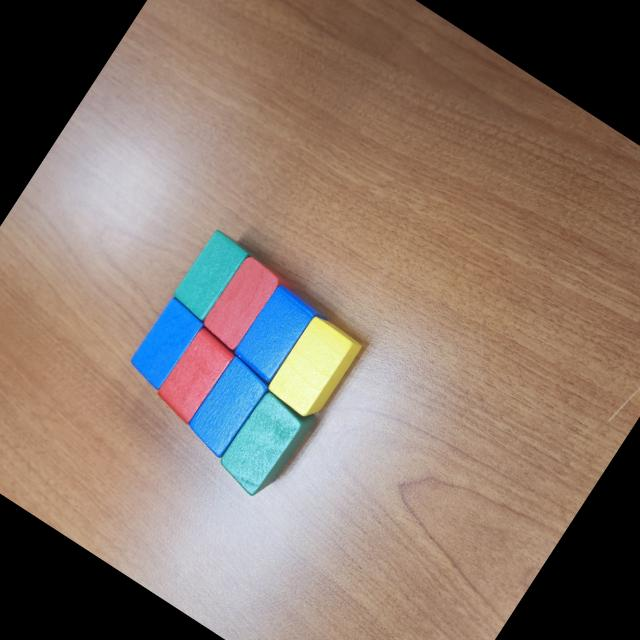blue: (227, 283, 330, 394), (180, 352, 274, 460), (123, 294, 207, 392)
green: (210, 382, 320, 504), (167, 227, 250, 325)
red: (197, 252, 297, 362), (148, 324, 238, 426)
yellow: (262, 312, 364, 426)
